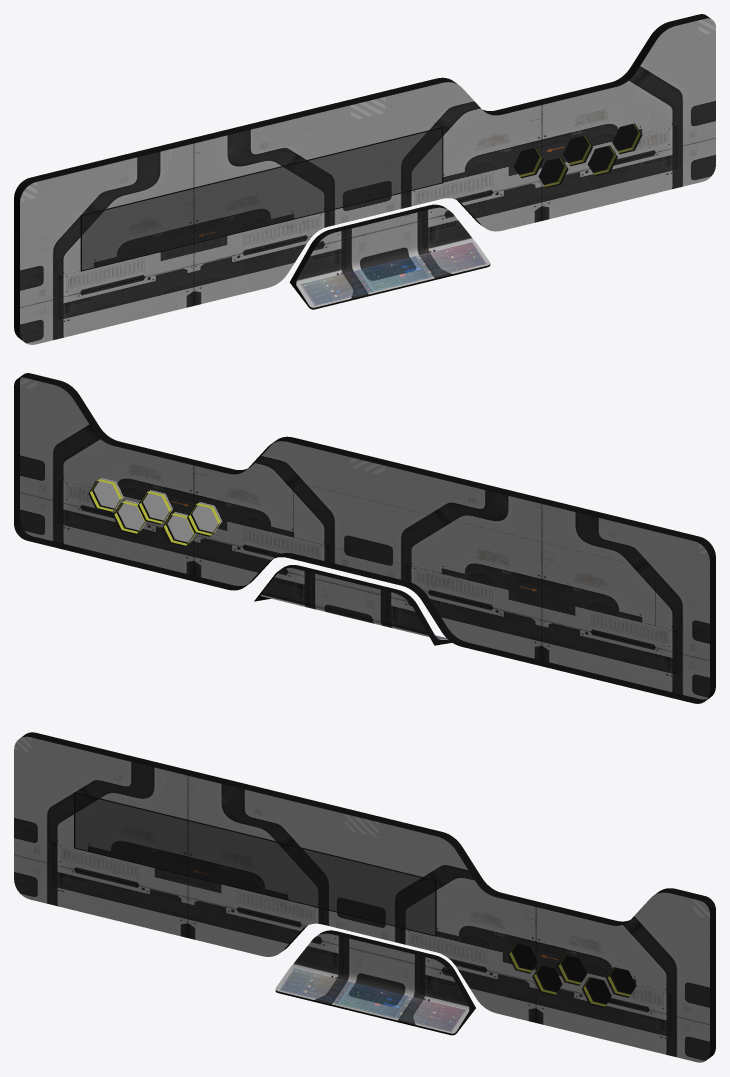
Rendered from EC_DisplayWallPanel03.FBX.
3 renders of one model, top to bottom at view 1: azimuth 30°, elevation 25°; view 2: azimuth 150°, elevation 25°; view 3: azimuth 330°, elevation 25°, orthographic.
Visible parts, largest first — view 1: EC_DisplayWallPanel03, EC_DisplayWallPanel03_Glass, EC_DisplayWallPanel03_UI; view 2: EC_DisplayWallPanel03; view 3: EC_DisplayWallPanel03, EC_DisplayWallPanel03_Glass, EC_DisplayWallPanel03_UI.
Boxes of the visible parts, x1=… form: EC_DisplayWallPanel03: x1=14, y1=14, x2=715, y2=344; EC_DisplayWallPanel03_Glass: x1=82, y1=128, x2=442, y2=270; EC_DisplayWallPanel03_UI: x1=301, y1=242, x2=485, y2=305; EC_DisplayWallPanel03: x1=14, y1=373, x2=715, y2=703; EC_DisplayWallPanel03: x1=14, y1=732, x2=715, y2=1062; EC_DisplayWallPanel03_Glass: x1=75, y1=793, x2=435, y2=935; EC_DisplayWallPanel03_UI: x1=280, y1=968, x2=465, y2=1031.
Bounding box in the file's own units: 11517 × 2851 × 617.
